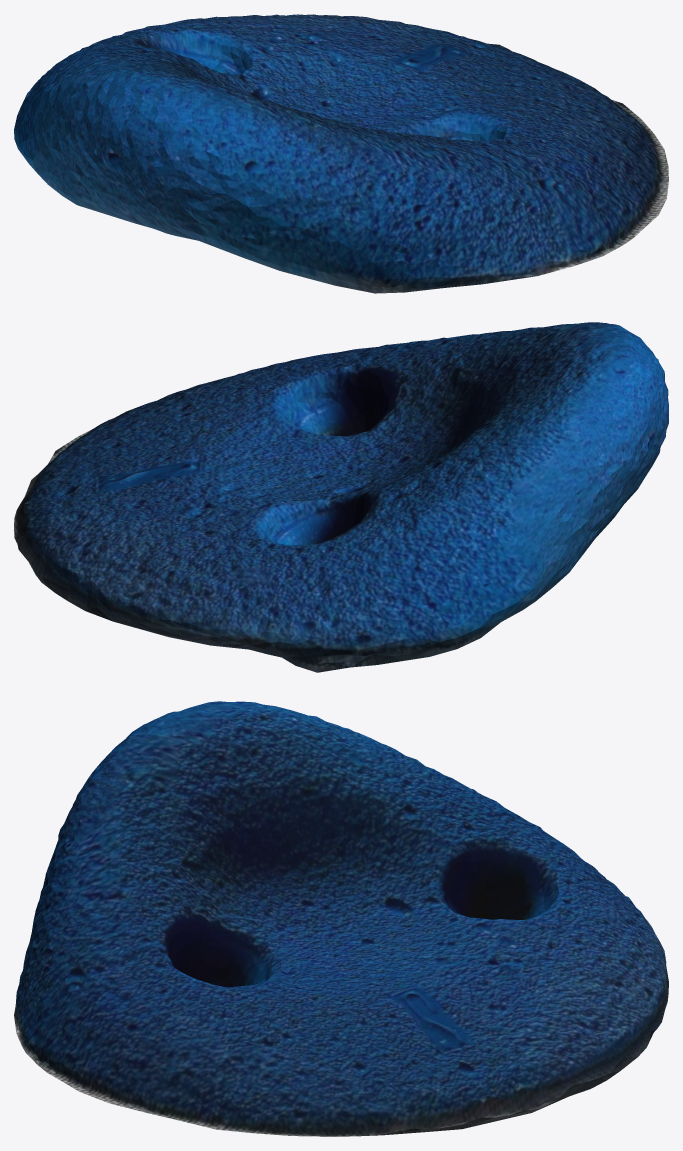
The model's file is SNAP_5_S_num5.glb.
3 renders of one model, top to bottom at view 1: azimuth 30°, elevation 25°; view 2: azimuth 150°, elevation 25°; view 3: azimuth 270°, elevation 25°, orthographic.
Size of the model in its own units: 0.2618 by 0.0897 by 0.2626.
1 material, 1 textured.
